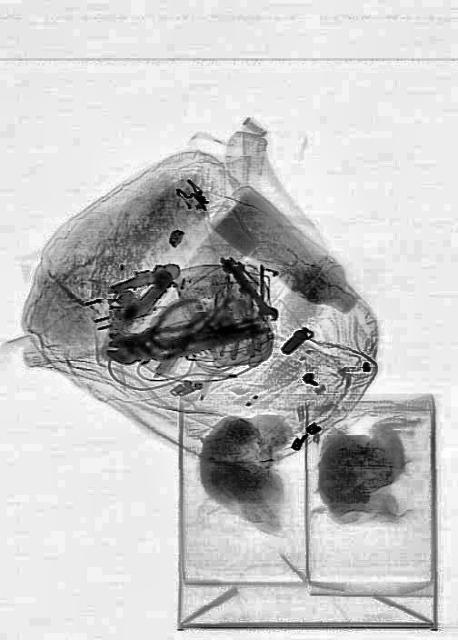Pliers: (141, 290, 207, 346)
Wrench: (104, 310, 232, 366), (219, 250, 281, 330)
